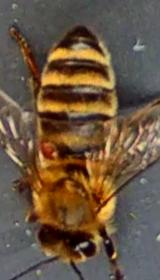varroa_mite: (26, 133, 70, 168)
